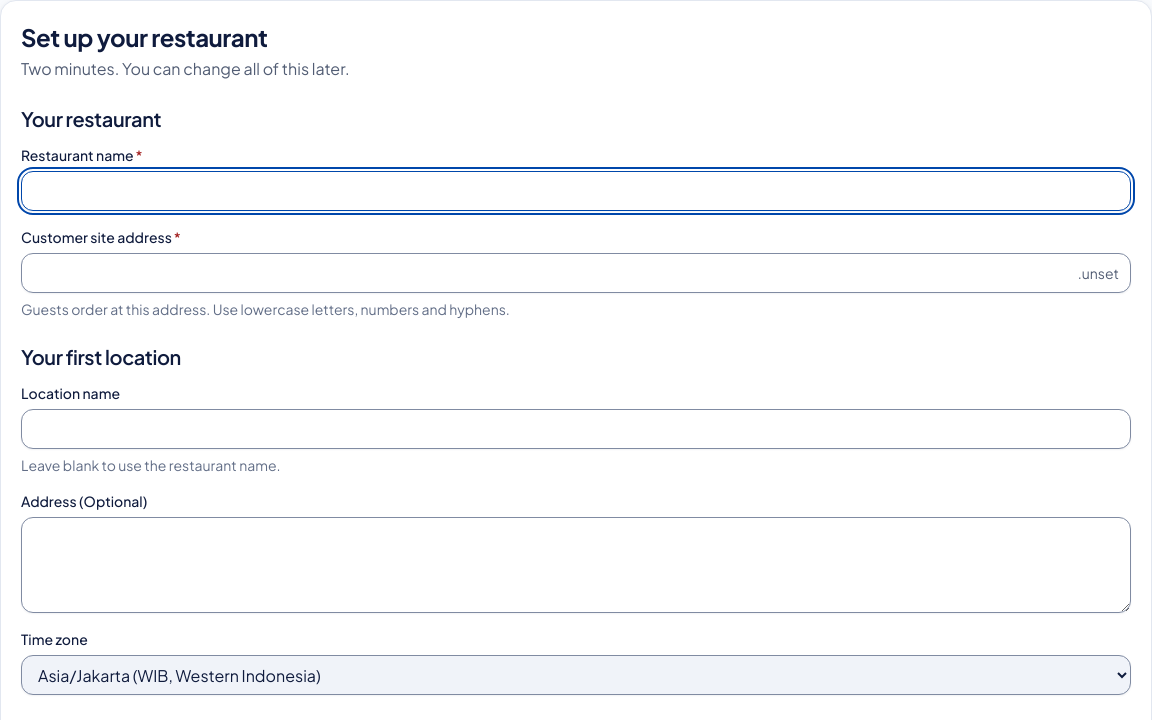
Test: create restaurant › does not ask the server about an address that is invalid locally
Type "ab" into the field labelled "Customer site address*" at (576, 273), box x1=21 y1=253 x2=1131 y2=293
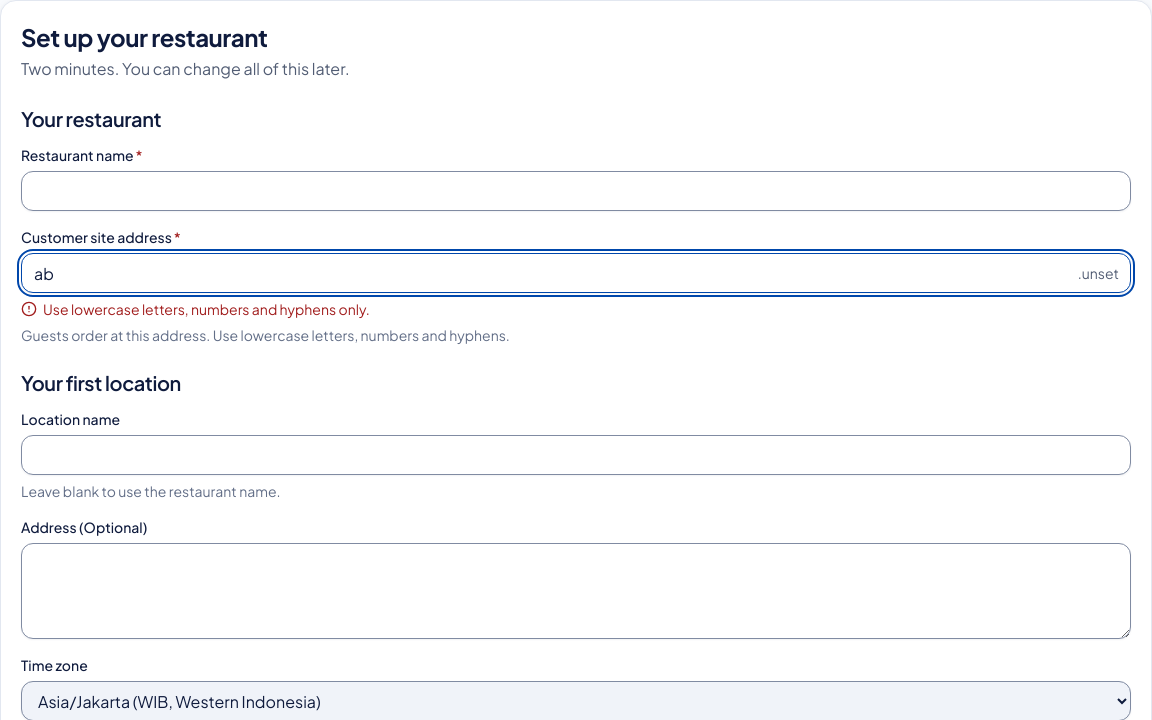
Check: the text "Use lowercase letters, numbers and hyphens only." is shown, box x1=43 y1=299 x2=370 y2=319
